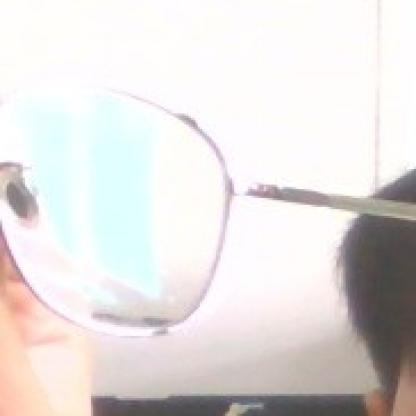not trash: (0, 70, 233, 336)
